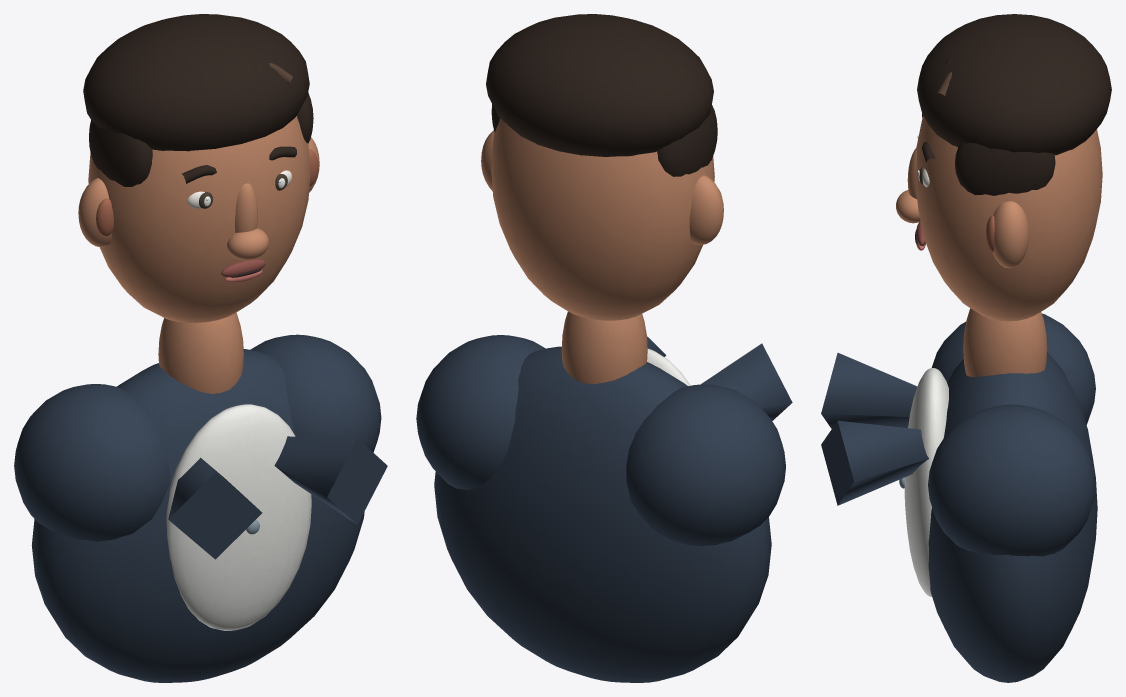
Rendered from alex.glb.
The picture shows the model from 3 angles, left to right: view 1: azimuth 30°, elevation 25°; view 2: azimuth 150°, elevation 25°; view 3: azimuth 270°, elevation 25°; orthographic projection. The views are drawn at different scales.
Parts seen in each view (by area): view 1: Body, Head, Face; view 2: Body, Head, Face; view 3: Body, Head, Face.
Boxes of the visible parts, <box> form: Body: <box>14,312,387,682</box>; Head: <box>78,14,319,260</box>; Face: <box>88,116,310,322</box>; Body: <box>416,311,792,682</box>; Head: <box>481,14,723,244</box>; Face: <box>491,118,714,320</box>; Body: <box>821,308,1097,682</box>; Head: <box>896,14,1111,268</box>; Face: <box>916,116,1102,321</box>.
Size of the model in its own units: 2.32 by 4.16 by 1.73.
Materials: 17 (17 with a texture image).
